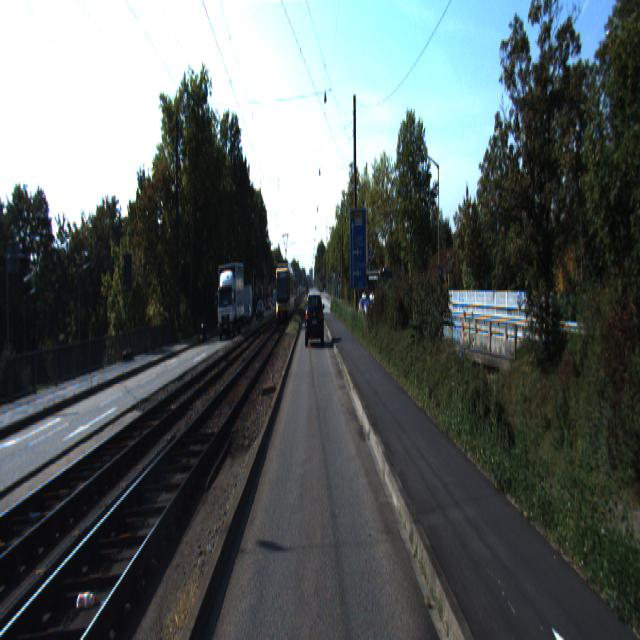Car: (216, 262, 244, 342), (357, 267, 394, 322), (306, 292, 323, 346)
